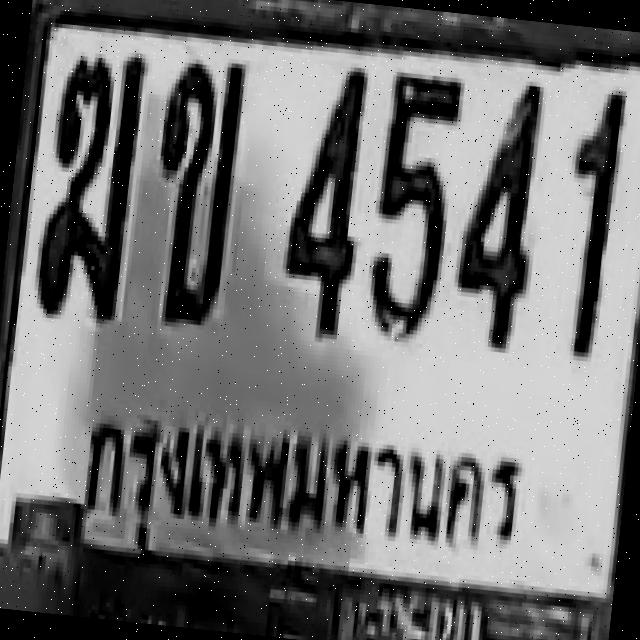1: (553, 95, 625, 341), (554, 90, 628, 320)
11KhorKhai: (140, 51, 246, 322)
15KhorRaKhang: (31, 44, 146, 320), (31, 74, 142, 320), (30, 118, 136, 320)
4: (448, 76, 548, 350), (276, 59, 372, 333)
5: (362, 71, 465, 341), (373, 68, 465, 235)
Bangkok: (62, 386, 546, 586)
